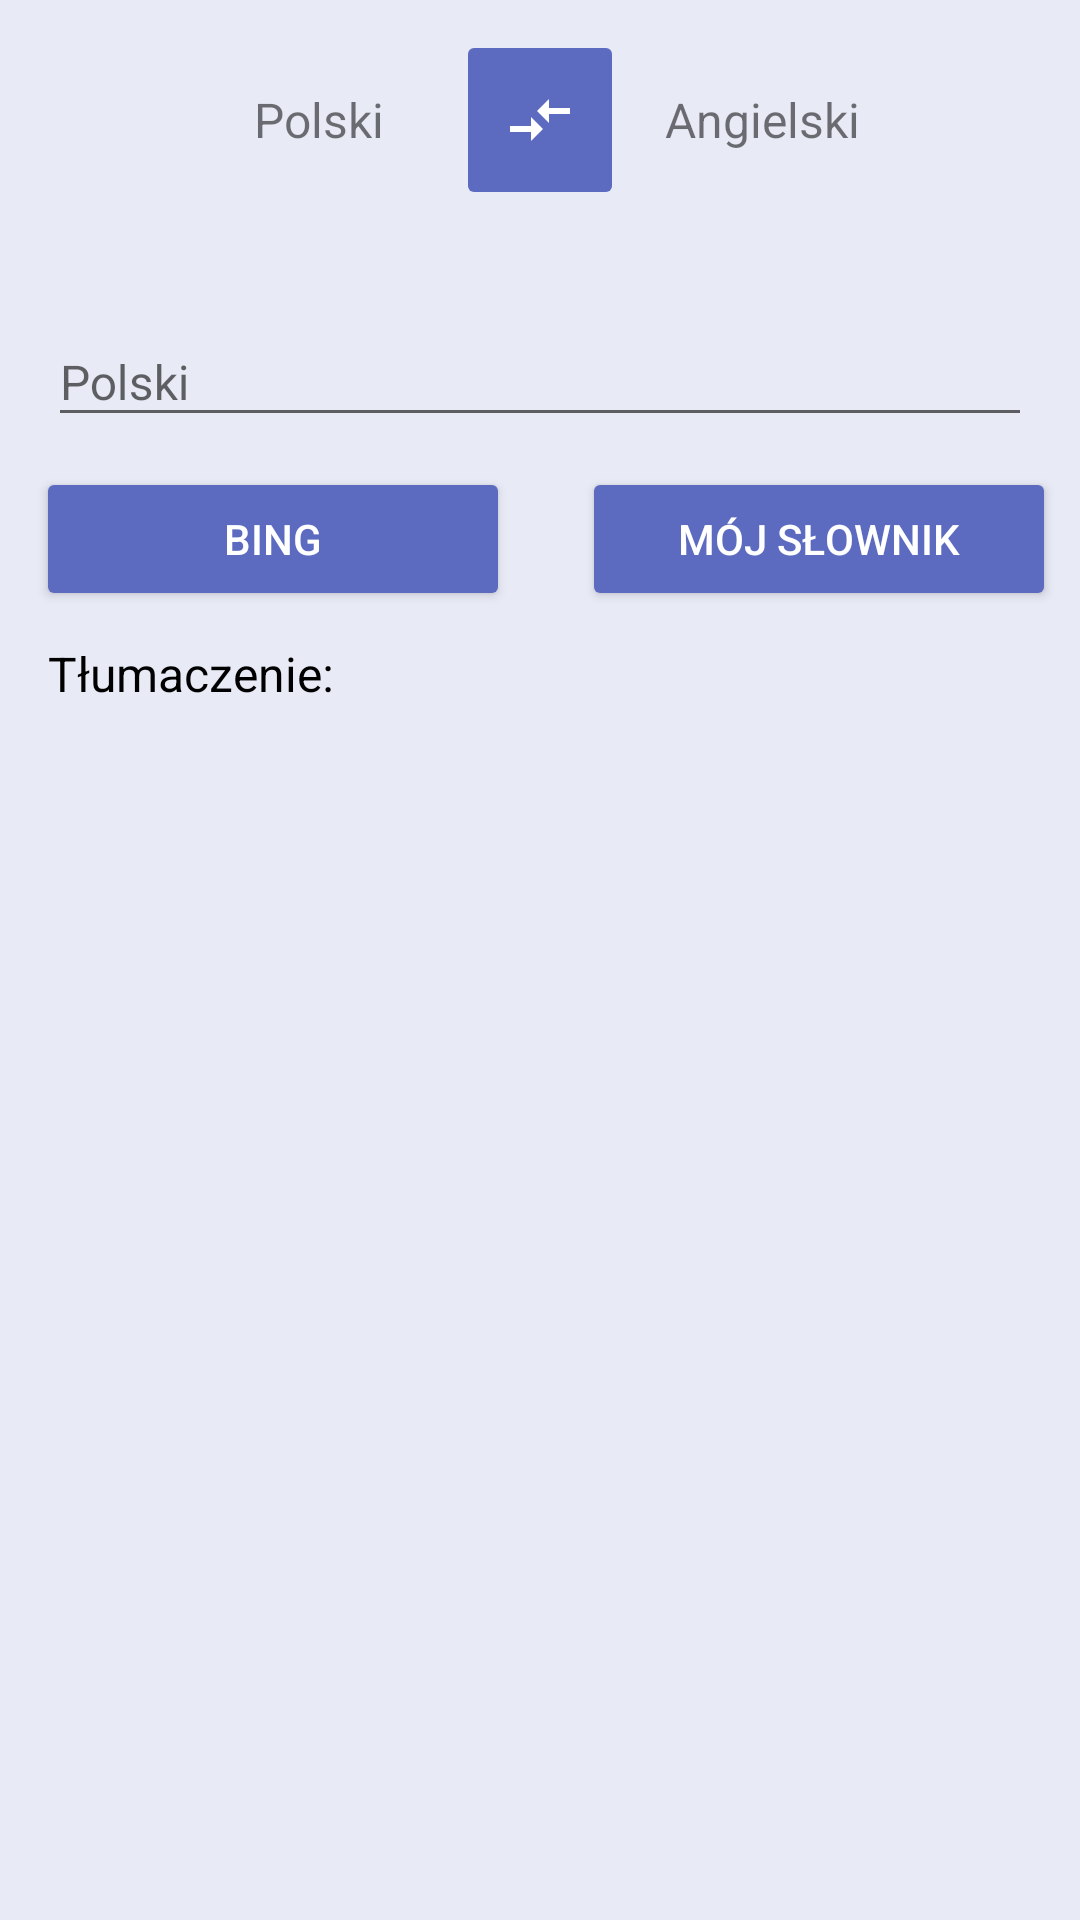

Named icons in this screenshot (1080w x 1920h) and their centers, (x=x, y=y):
compare arrows: (x=540, y=120)
